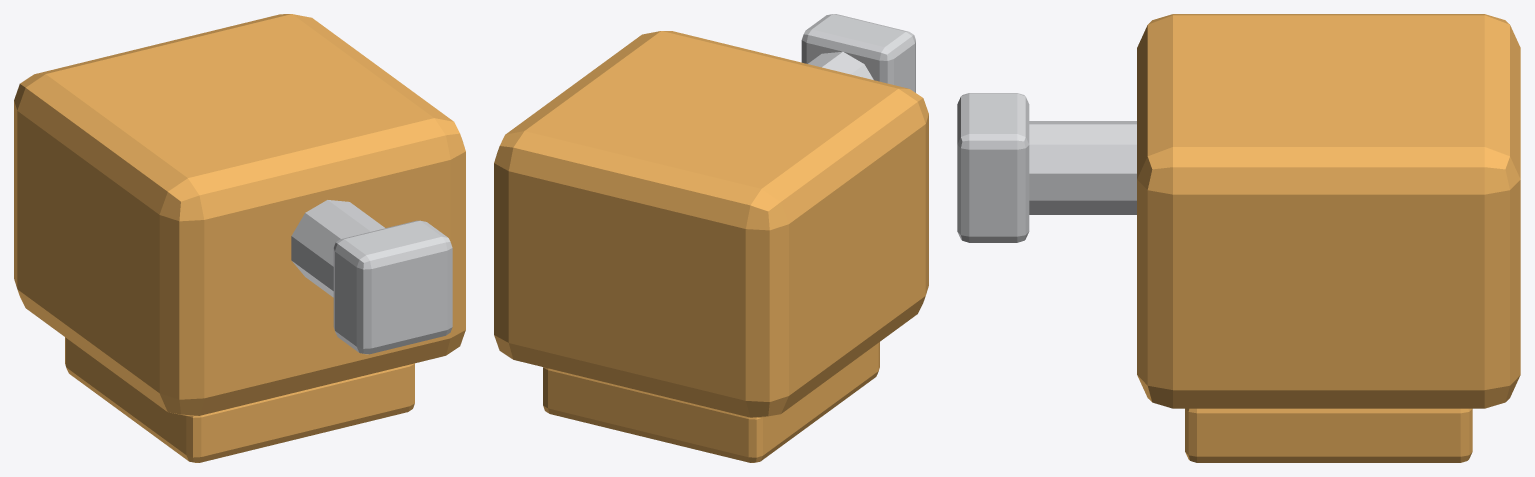
The model's file is part_motor.fbx.
3 renders of one model, left to right at view 1: azimuth 30°, elevation 25°; view 2: azimuth 150°, elevation 25°; view 3: azimuth 270°, elevation 25°, orthographic. The views are drawn at different scales.
Parts seen in each view (by area): view 1: part_motor; view 2: part_motor; view 3: part_motor.
Boxes of the visible parts, left/top/right/bottom form: part_motor: left=14, top=14, right=465, bottom=462; part_motor: left=494, top=14, right=928, bottom=462; part_motor: left=957, top=14, right=1520, bottom=462.
Size of the model in its own units: 0.032 by 0.03 by 0.047.
